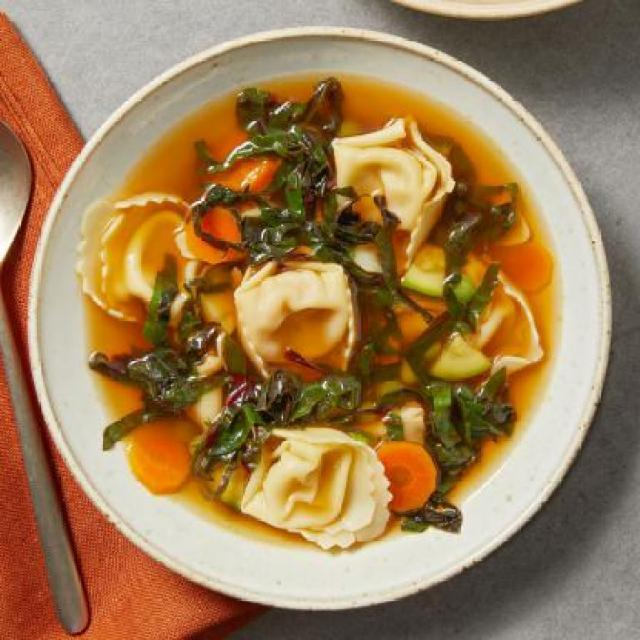Tortellini in broth: (79, 80, 564, 554)
